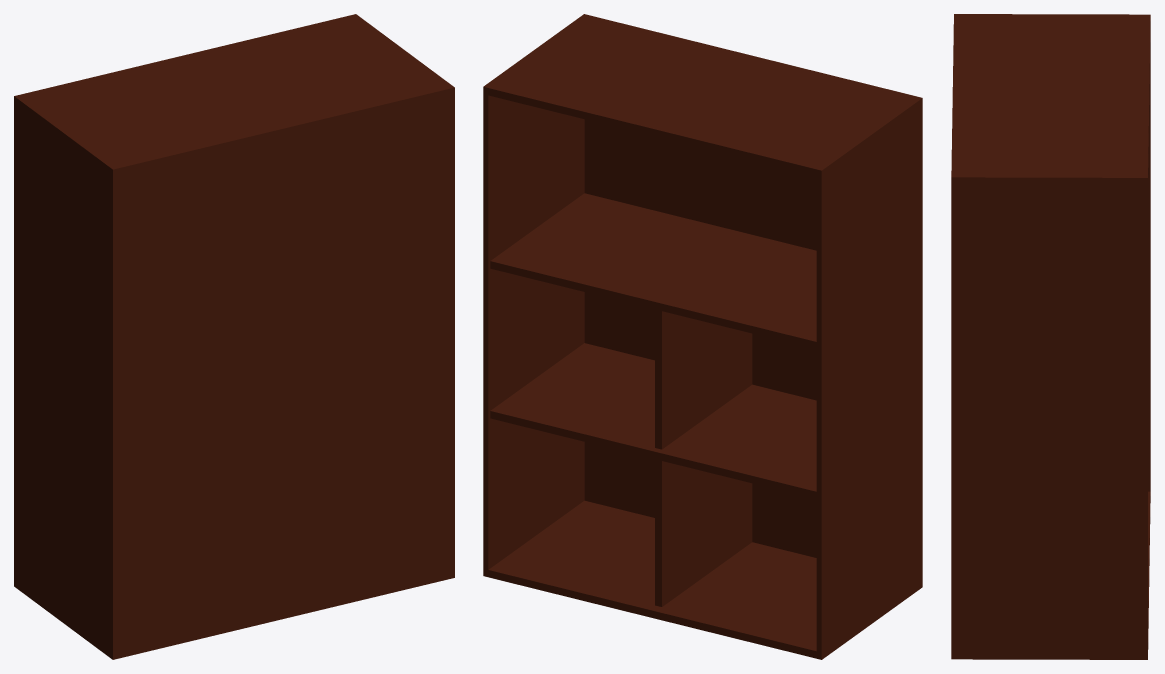
Rendered from Shelf.obj.
3 renders of one model, left to right at view 1: azimuth 30°, elevation 25°; view 2: azimuth 150°, elevation 25°; view 3: azimuth 270°, elevation 25°, orthographic.
Visible parts, largest first — view 1: Estante; view 2: Estante; view 3: Estante.
Part boxes in pixels (<box>): Estante: <box>14,14,454,659</box>; Estante: <box>483,14,922,659</box>; Estante: <box>951,14,1150,659</box>.
Bounding box in the file's own units: 4.54 × 6.23 × 2.33.
